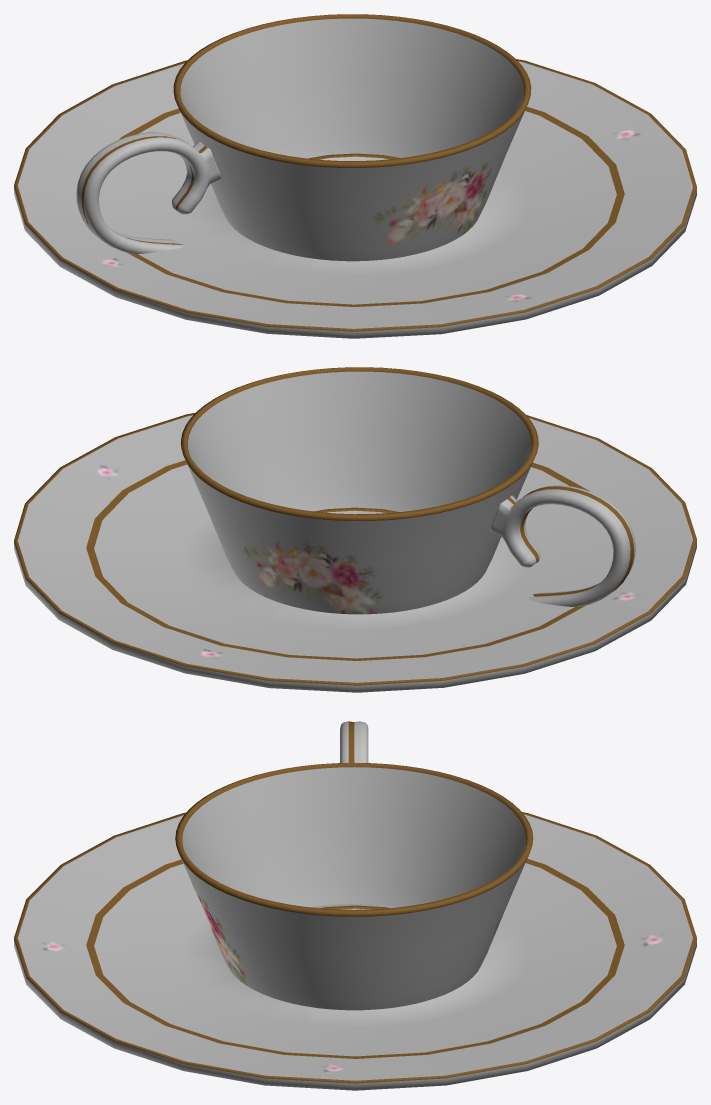
The model's file is singleset.glb.
3 renders of one model, top to bottom at view 1: azimuth 30°, elevation 25°; view 2: azimuth 150°, elevation 25°; view 3: azimuth 270°, elevation 25°, orthographic.
Visible parts, largest first — view 1: plate6, CupUp; view 2: plate6, CupUp; view 3: plate6, CupUp.
Boxes of the visible parts, left/top/right/bottom form: plate6: left=14, top=59, right=696, bottom=338; CupUp: left=76, top=14, right=531, bottom=261; plate6: left=14, top=413, right=696, bottom=692; CupUp: left=181, top=367, right=635, bottom=614; plate6: left=14, top=812, right=696, bottom=1090; CupUp: left=175, top=721, right=533, bottom=1010.
Size of the model in its own units: 0.5275 by 0.1738 by 0.5275.
Materials: 2 (1 with a texture image).
